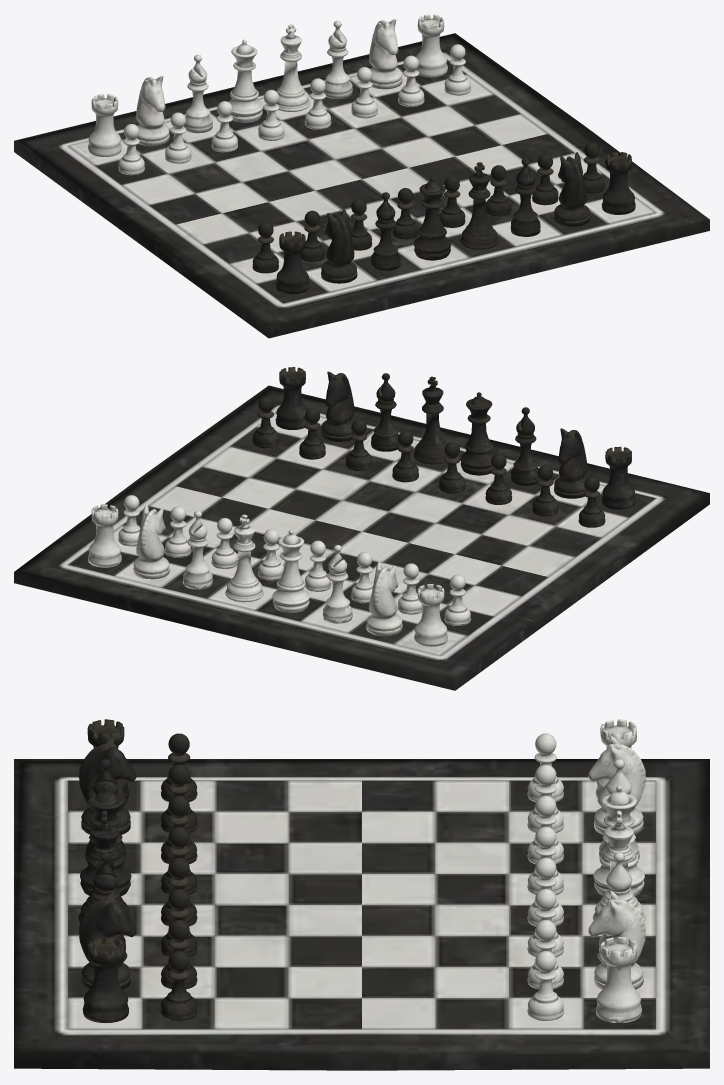
Rendered from chess_set.glb.
The picture shows the model from 3 angles, top to bottom: view 1: azimuth 30°, elevation 25°; view 2: azimuth 150°, elevation 25°; view 3: azimuth 270°, elevation 25°; orthographic projection. The views are drawn at different scales.
Visible parts, largest first — view 1: board, piece_queen_black, piece_knight_black_01, piece_knight_black_02, piece_queen_white, piece_knight_white_02, piece_knight_white_01, piece_king_black, piece_king_white, piece_rook_white_02, piece_rook_black_01, piece_rook_black_02 (+21 smaller); view 2: board, piece_queen_white, piece_knight_white_02, piece_knight_white_01, piece_queen_black, piece_knight_black_02, piece_knight_black_01, piece_king_white, piece_king_black, piece_rook_white_01, piece_rook_white_02, piece_rook_black_01 (+21 smaller); view 3: board, piece_rook_black_02, piece_rook_white_01, piece_knight_white_01, piece_knight_black_02, piece_knight_white_02, piece_knight_black_01, piece_queen_white, piece_queen_black, piece_pawn_white_01, piece_pawn_black_08, piece_king_black (+21 smaller).
Boxes of the visible parts, x1,y1,x2,y2 form: board: (14,33,709,338); piece_queen_black: (413,177,451,260); piece_knight_black_01: (321,209,357,283); piece_knight_black_02: (554,152,590,226); piece_queen_white: (228,39,263,122); piece_knight_white_02: (136,76,169,146); piece_knight_white_01: (369,19,402,89); piece_king_black: (460,162,498,249); piece_king_white: (276,24,310,111); piece_rook_white_02: (88,94,121,156); piece_rook_black_01: (275,231,309,294); piece_rook_black_02: (601,152,635,214); board: (14,385,709,690); piece_queen_white: (272,530,309,612); piece_knight_white_02: (366,561,402,635); piece_knight_white_01: (133,505,169,579); piece_queen_black: (460,392,495,475); piece_knight_black_02: (321,371,354,441); piece_knight_black_01: (554,428,587,498); piece_king_white: (225,514,263,602); piece_king_black: (413,376,447,464); piece_rook_white_01: (88,504,121,567); piece_rook_white_02: (414,584,447,647); piece_rook_black_01: (602,446,635,509); board: (14,759,709,1070); piece_rook_black_02: (82,936,128,1023); piece_rook_white_01: (595,937,641,1022); piece_knight_white_01: (588,891,645,989); piece_knight_black_02: (79,891,136,989); piece_knight_white_02: (588,735,645,834); piece_knight_black_01: (79,735,136,834); piece_queen_white: (593,785,644,896); piece_queen_black: (80,785,131,896); piece_pawn_white_01: (527,951,563,1020); piece_pawn_black_08: (161,951,197,1020); piece_king_black: (78,810,130,922).
Size of the model in its own units: 0.5507 by 0.1118 by 0.5482.
3 materials, 3 textured.
